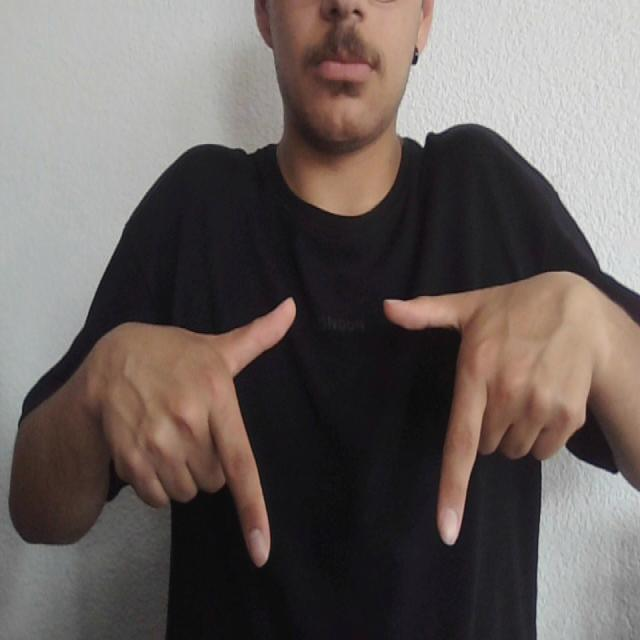Nerede: (190, 287, 492, 574)
